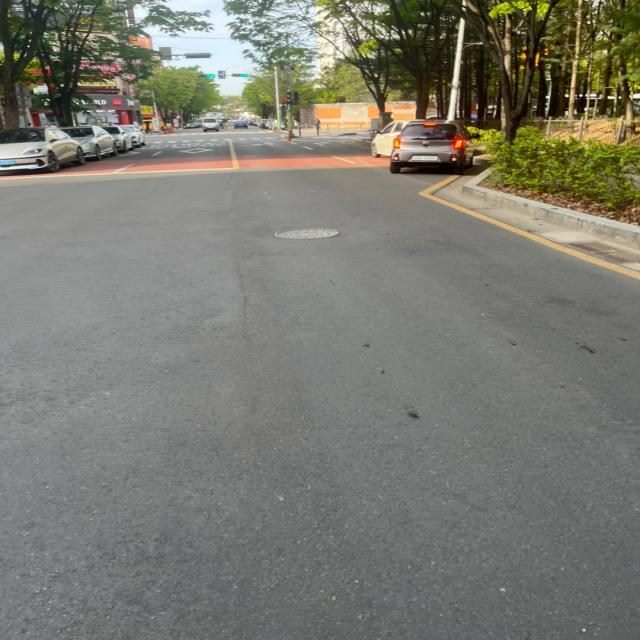Sewer Cover: (257, 222, 352, 250)
